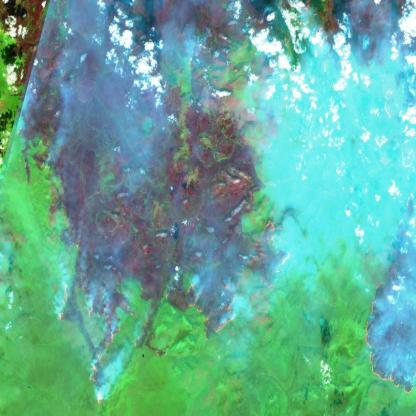fire: (55, 268, 139, 412), (184, 274, 239, 345), (252, 211, 292, 305), (16, 117, 37, 187), (145, 343, 171, 363)
